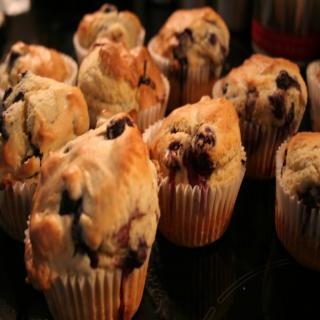Muffin: (0, 4, 320, 320), (25, 113, 160, 320), (151, 98, 247, 248)
